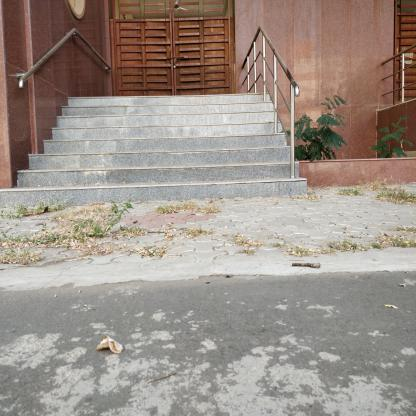stairs: (67, 92, 257, 205)
